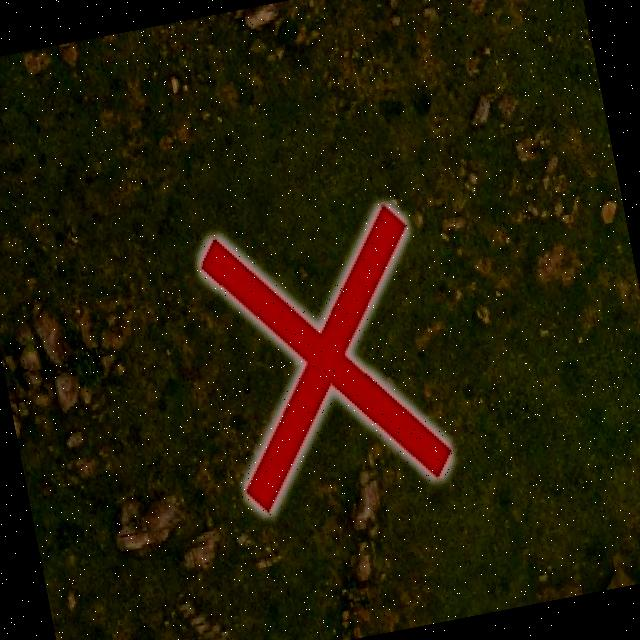x_marker: (196, 202, 453, 514)
